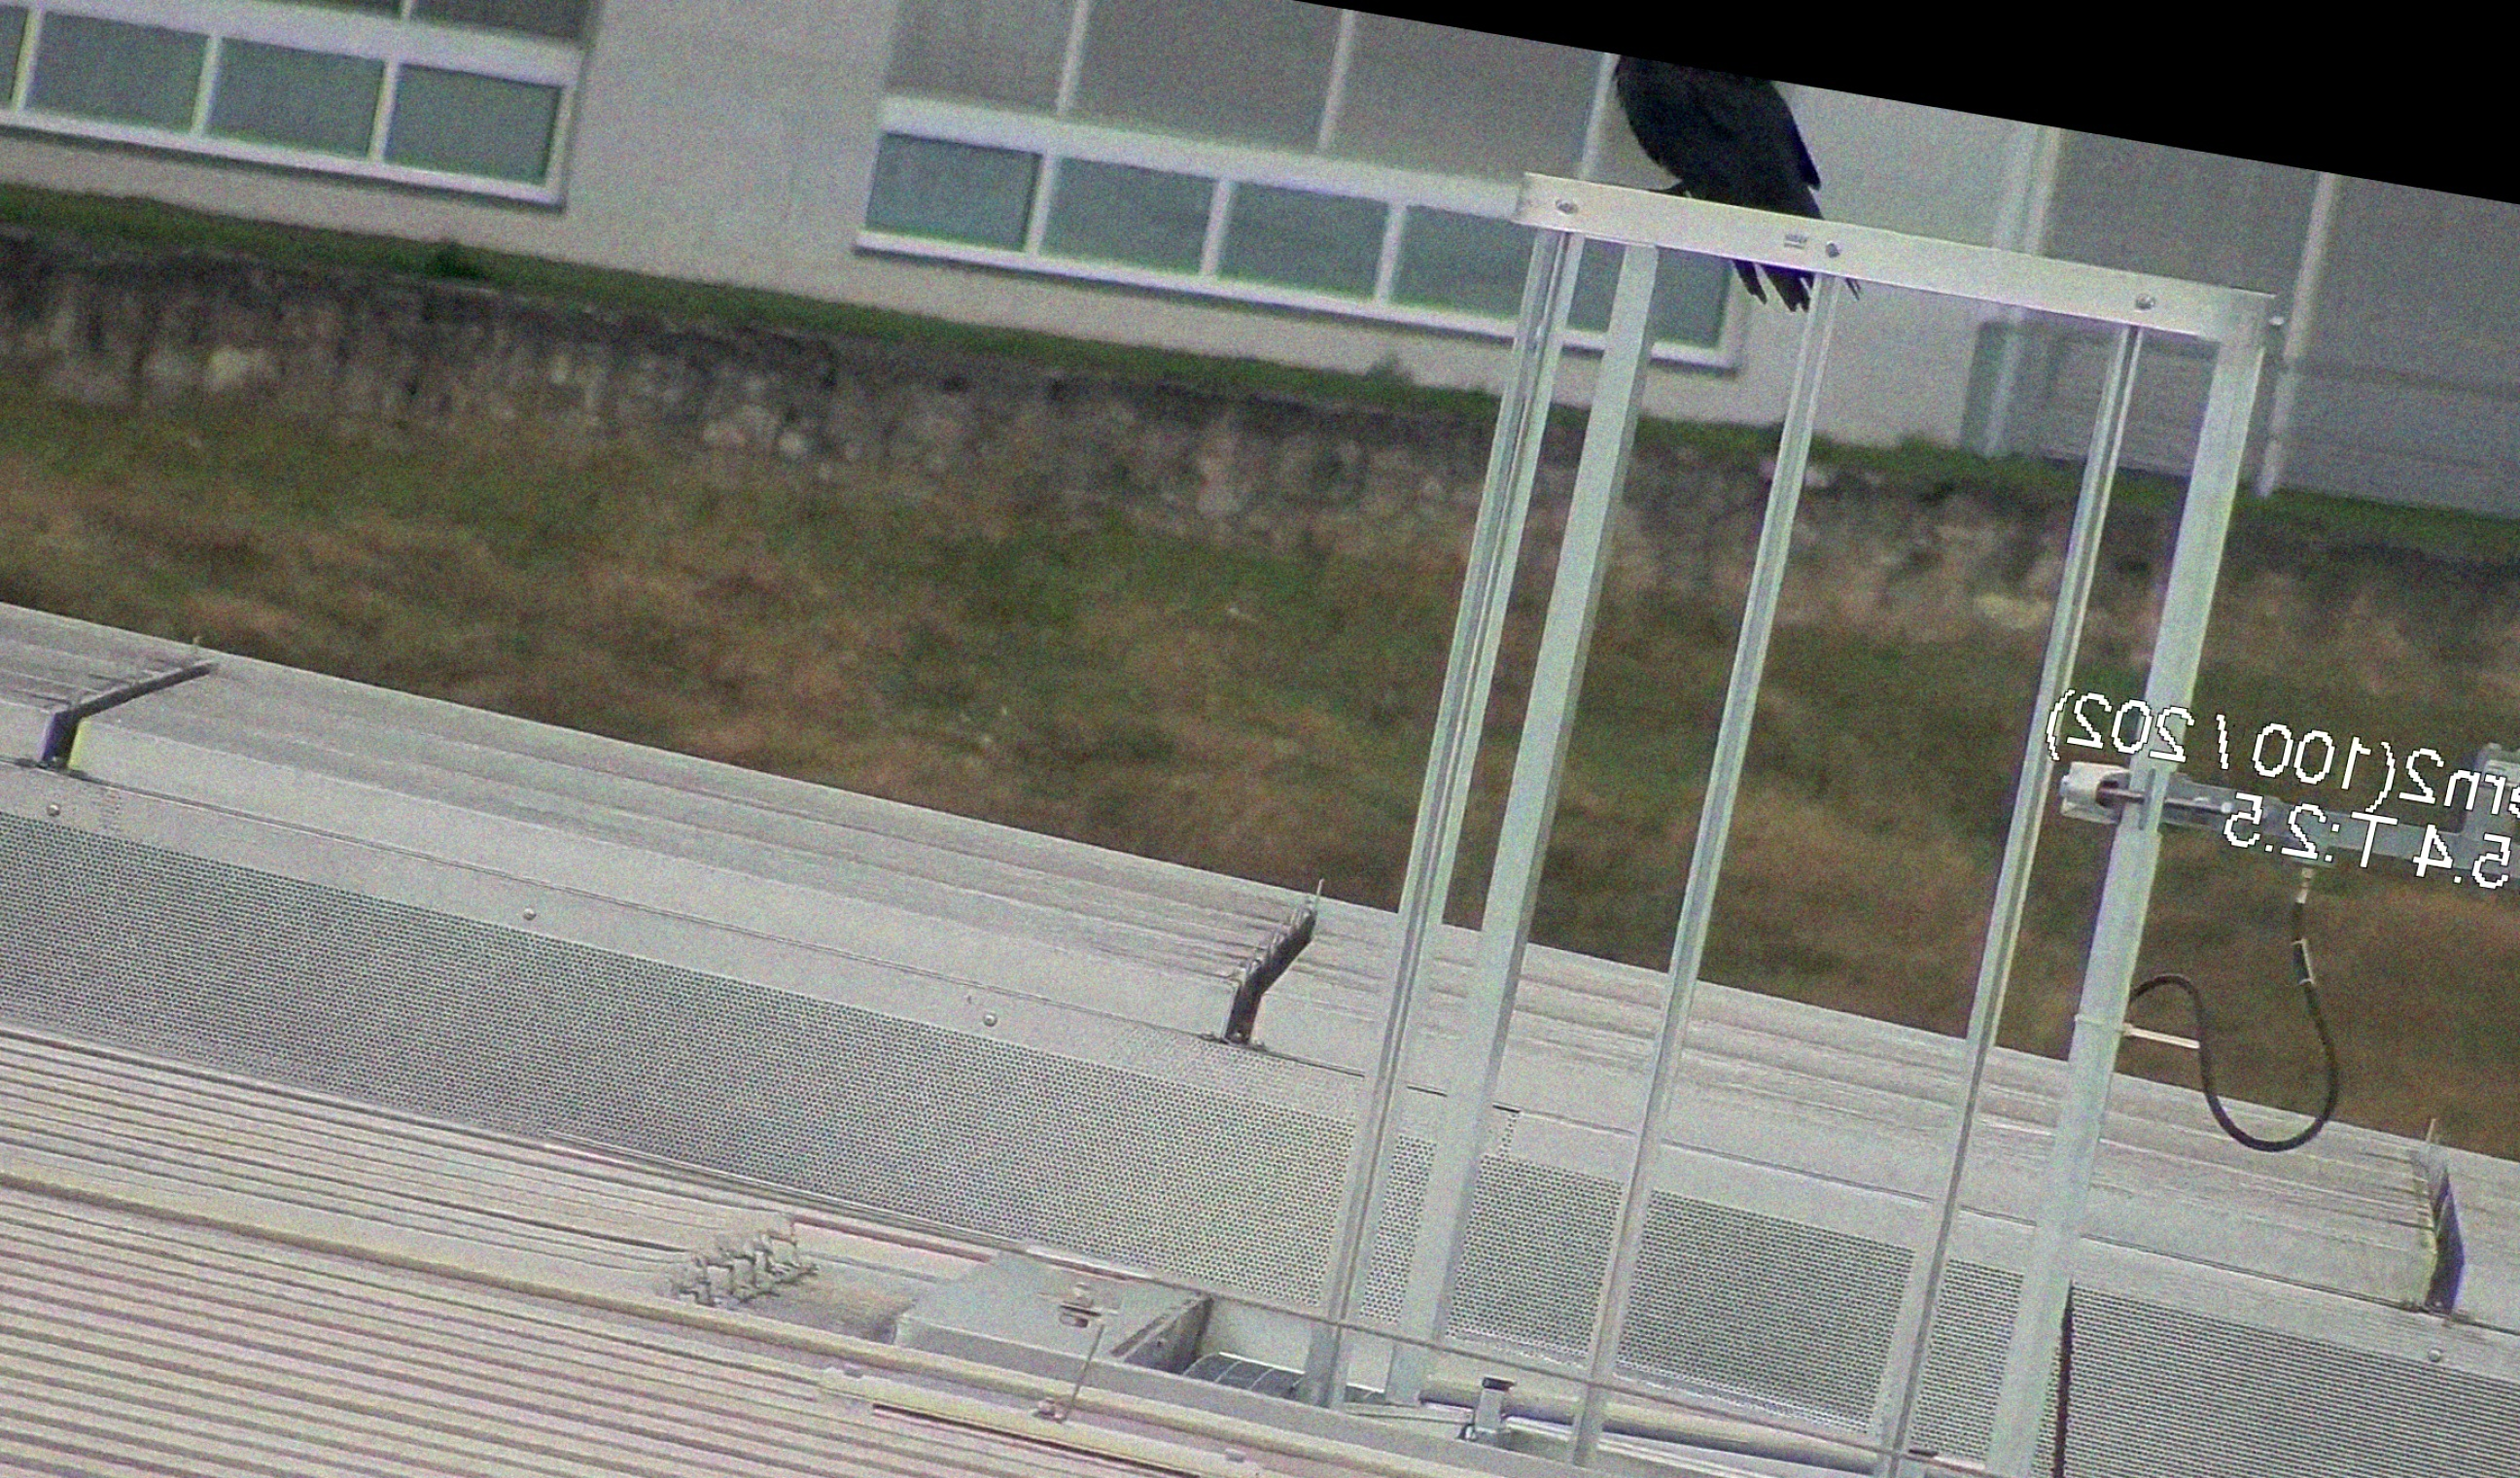Other: (1584, 55, 1876, 239)
